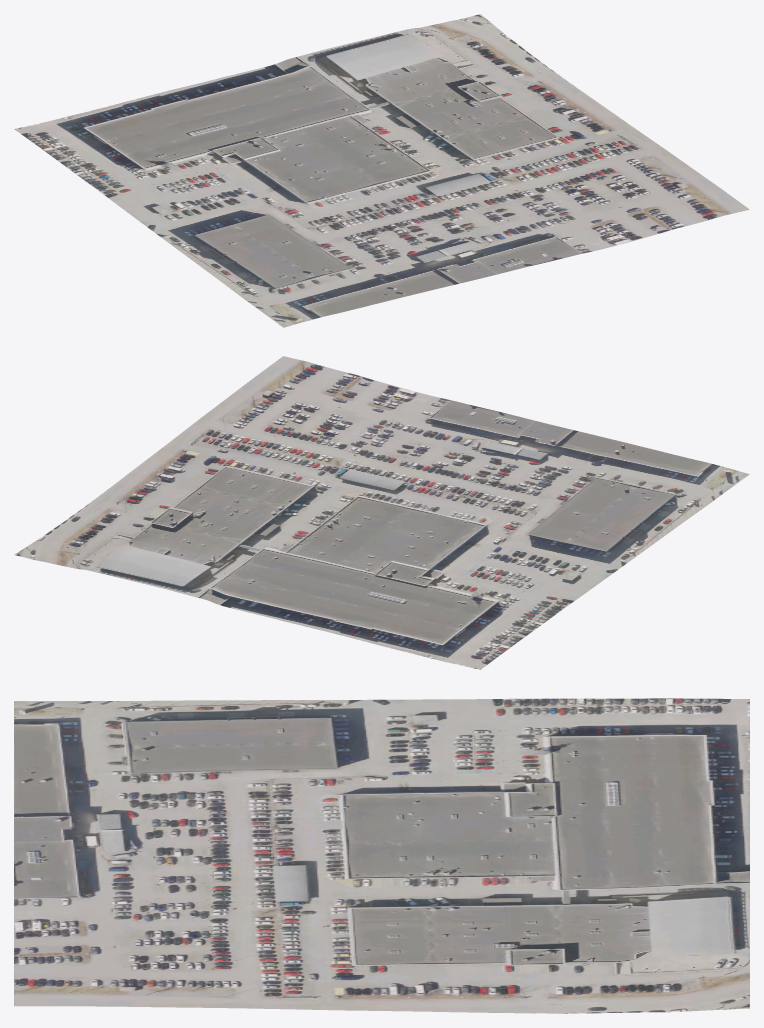
Rendered from CM_Terrain_24487387_6819180.fbx.
3 renders of one model, top to bottom at view 1: azimuth 30°, elevation 25°; view 2: azimuth 150°, elevation 25°; view 3: azimuth 270°, elevation 25°, orthographic. The views are drawn at different scales.
Parts seen in each view (by area): view 1: CM_Terrain_24487387_6819180_LOD0; view 2: CM_Terrain_24487387_6819180_LOD0; view 3: CM_Terrain_24487387_6819180_LOD0.
Part boxes in pixels (box(x1,y1,x2,y2)): CM_Terrain_24487387_6819180_LOD0: box(14, 14, 749, 327); CM_Terrain_24487387_6819180_LOD0: box(14, 356, 749, 669); CM_Terrain_24487387_6819180_LOD0: box(14, 698, 749, 1013).
Size of what is drawn, in the model's own units: 205 by 2.84 by 205.
